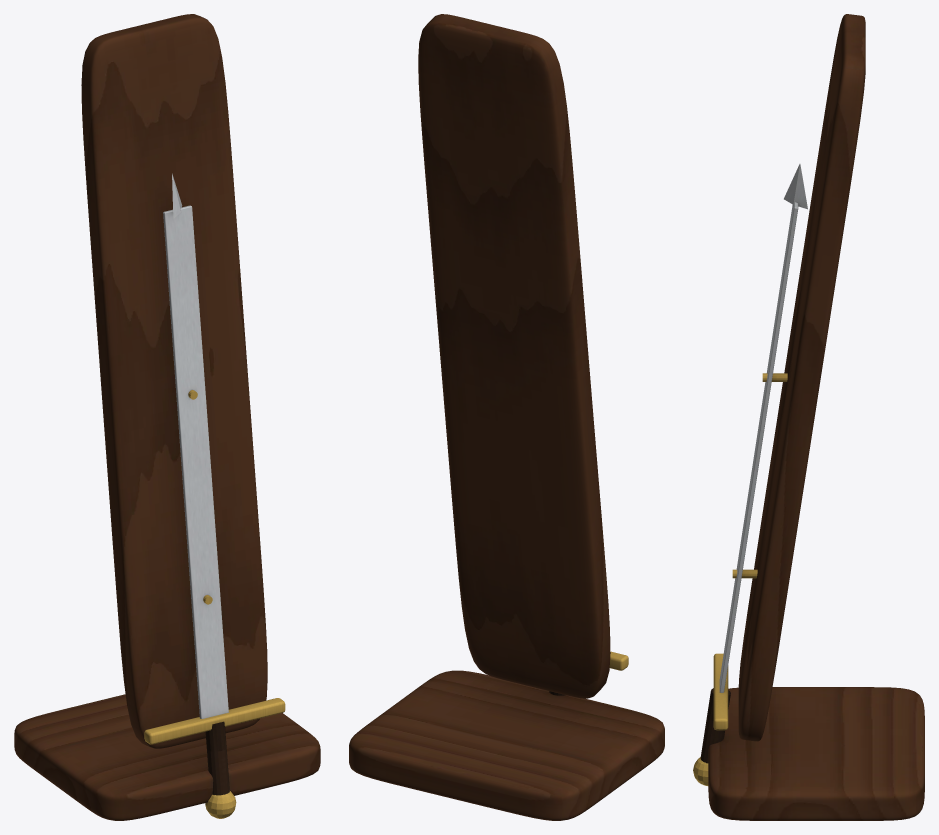
The model's file is longsword.glb.
The picture shows the model from 3 angles, left to right: view 1: azimuth 30°, elevation 25°; view 2: azimuth 150°, elevation 25°; view 3: azimuth 270°, elevation 25°; orthographic projection. The views are drawn at different scales.
Visible parts, largest first — view 1: wood_z, wood_x, blade_steel, gold_trim, grip_leather; view 2: wood_z, wood_x; view 3: wood_z, wood_x, blade_steel, gold_trim, grip_leather.
Part boxes in pixels (x1,y1,x2,y2): wood_z: (81,14,267,748); wood_x: (14,694,320,820); blade_steel: (163,173,228,718); gold_trim: (144,390,285,818); grip_leather: (205,721,229,795); wood_z: (418,14,610,698); wood_x: (349,670,664,820); wood_z: (738,14,865,741); wood_x: (708,687,924,820); blade_steel: (719,164,807,692); gold_trim: (693,373,787,785); grip_leather: (700,688,730,763).
Size of the model in its own units: 0.36 by 1.14 by 0.3213.
Materials: 5 (5 with a texture image).
